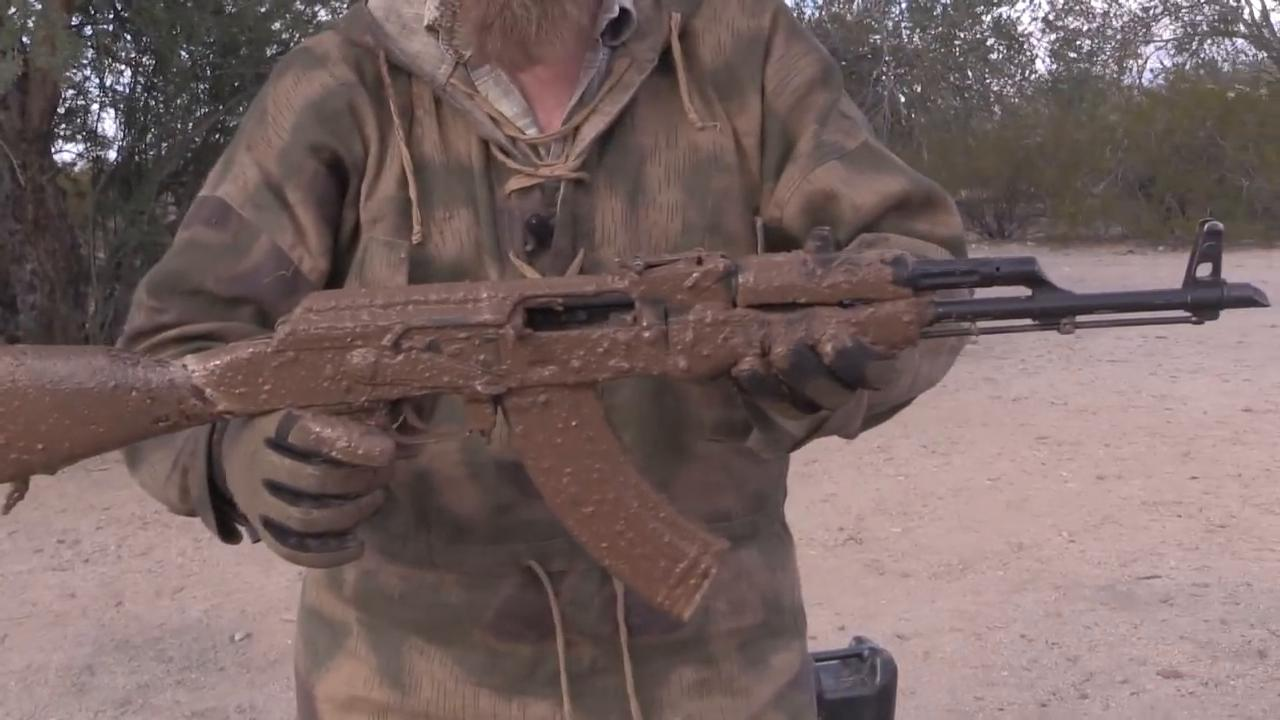AK47 Rifle: (1, 213, 1268, 622)
